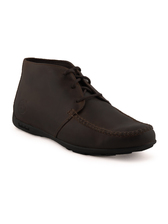shoes: (12, 56, 158, 159)
